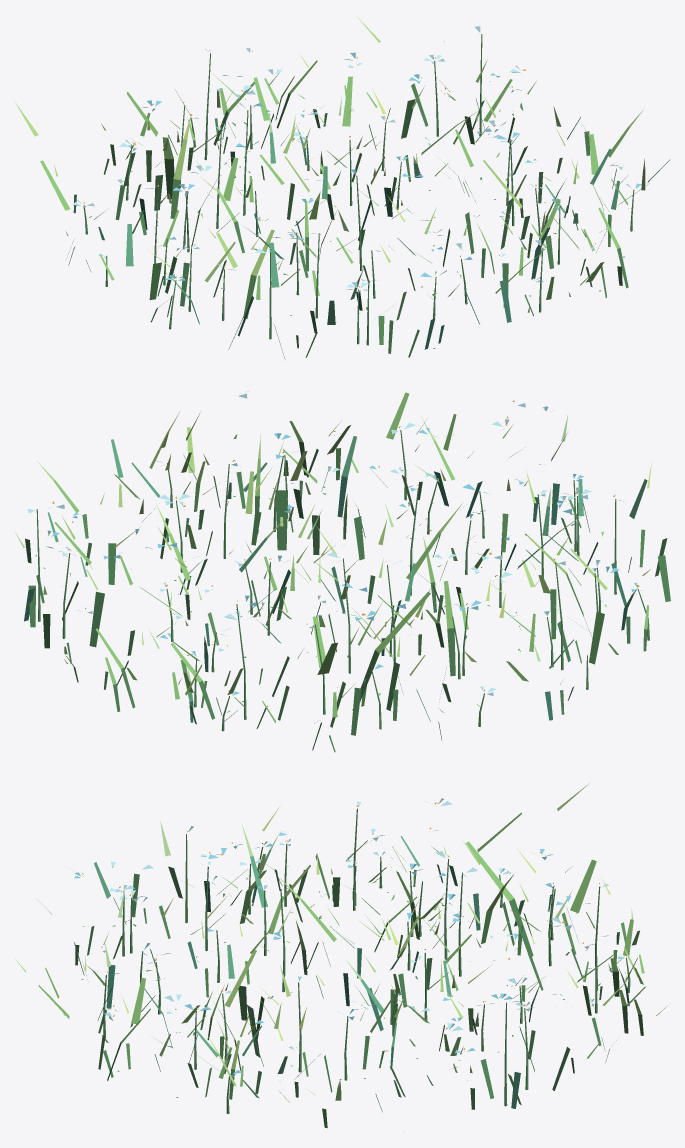
File: Meadow_02_Blue_LOD1.glb
3 renders of one model, top to bottom at view 1: azimuth 30°, elevation 25°; view 2: azimuth 150°, elevation 25°; view 3: azimuth 270°, elevation 25°, orthographic. The views are drawn at different scales.
Visible parts, largest first — view 1: Meadow_02_Blue; view 2: Meadow_02_Blue; view 3: Meadow_02_Blue.
Boxes of the visible parts, bbox=[...] form: Meadow_02_Blue: bbox=[14, 16, 670, 359]; Meadow_02_Blue: bbox=[15, 391, 670, 752]; Meadow_02_Blue: bbox=[15, 783, 670, 1128].
Size of the model in its own units: 2.7 by 0.6146 by 2.81.
